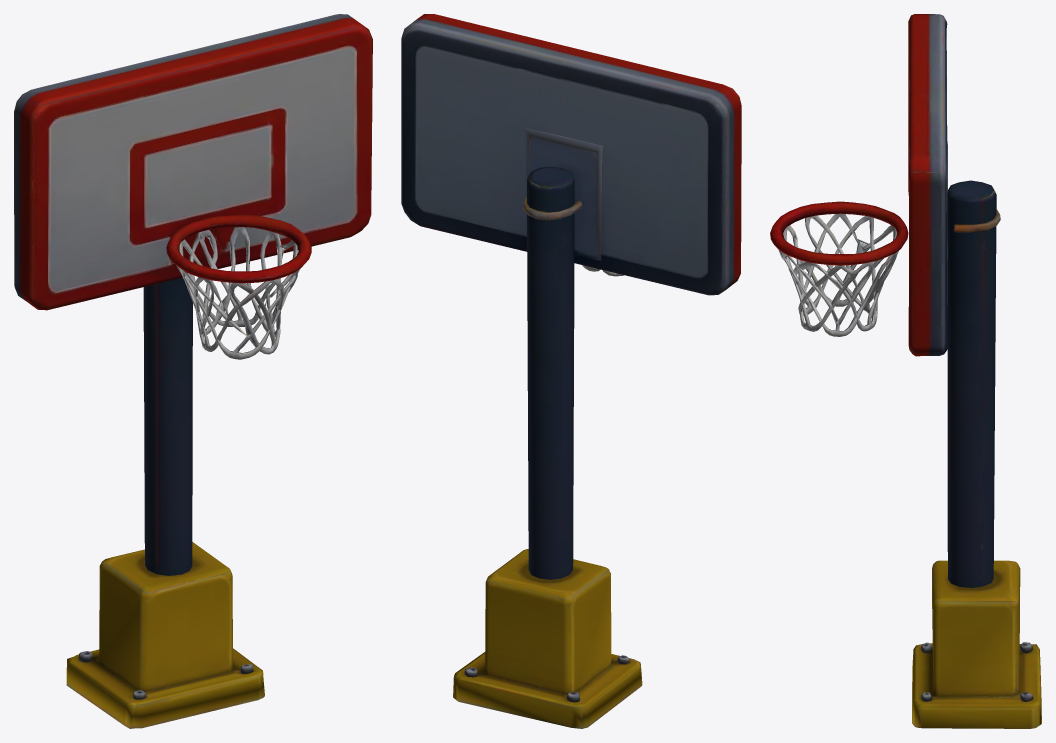
Rendered from basketball-hoop.glb.
3 renders of one model, left to right at view 1: azimuth 30°, elevation 25°; view 2: azimuth 150°, elevation 25°; view 3: azimuth 270°, elevation 25°, orthographic. The views are drawn at different scales.
Parts seen in each view (by area): view 1: meshy-basketball-hoop; view 2: meshy-basketball-hoop; view 3: meshy-basketball-hoop.
Boxes of the visible parts, x1=… form: meshy-basketball-hoop: x1=14, y1=14, x2=372, y2=728; meshy-basketball-hoop: x1=401, y1=14, x2=741, y2=728; meshy-basketball-hoop: x1=770, y1=14, x2=1041, y2=728.
Size of the model in its own units: 1.7 by 3.07 by 1.24.
Materials: 1 (1 with a texture image).
